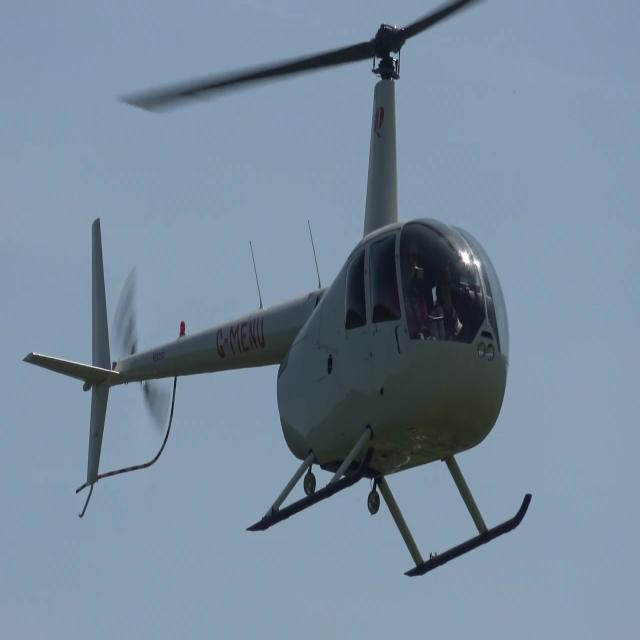CIV_HELO: (20, 22, 532, 580)
